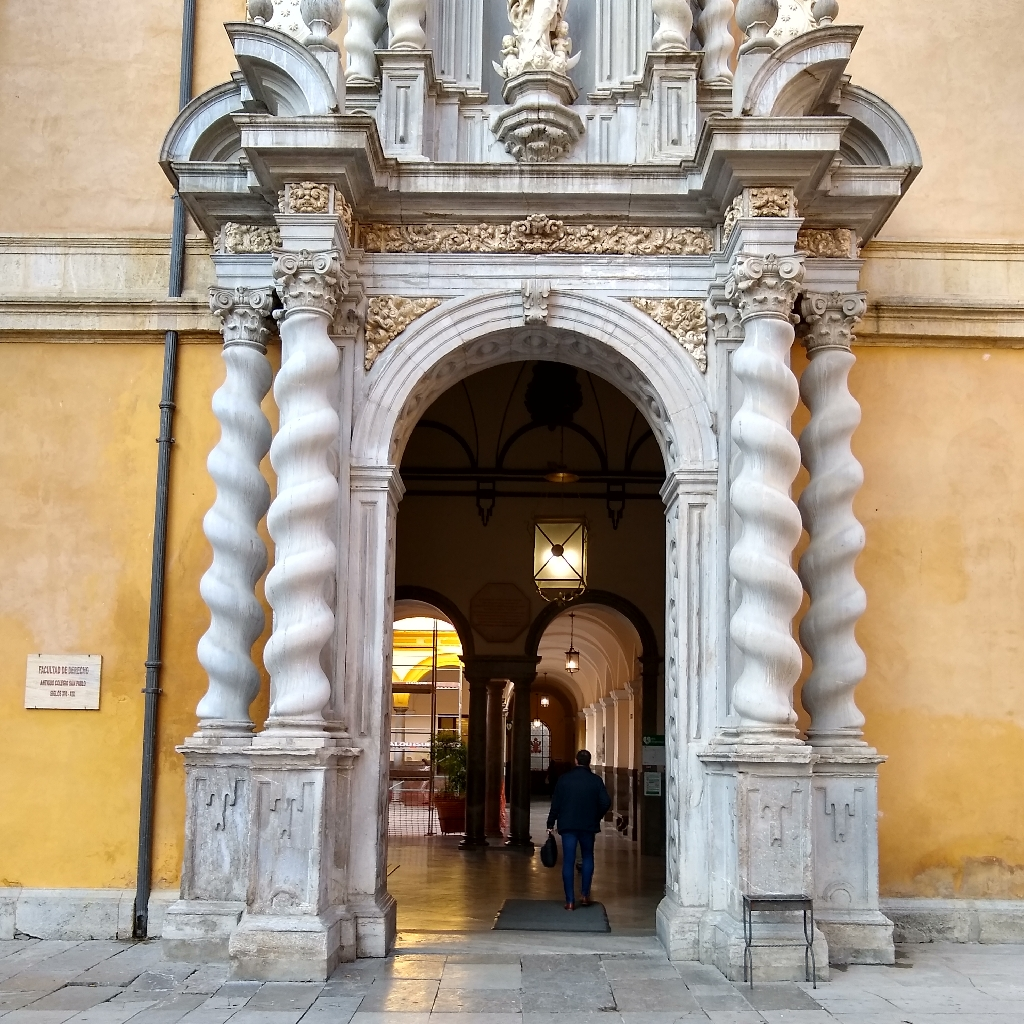arco-medio-punto: (377, 303, 698, 524)
columna-salomonica: (713, 312, 820, 749), (254, 305, 361, 736), (187, 332, 283, 743), (796, 332, 885, 766)
